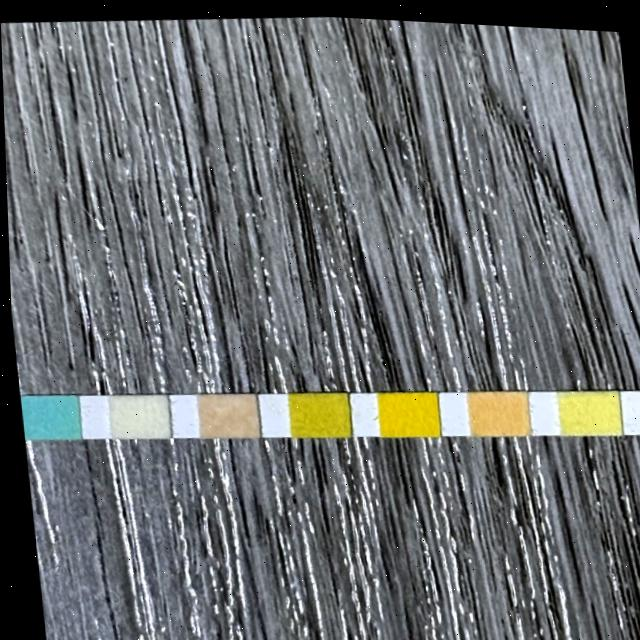Bilirubin: (105, 390, 165, 438)
Blood: (375, 384, 435, 434)
Glucose: (16, 390, 76, 441)
Ketone: (193, 387, 255, 437)
Protein: (554, 380, 618, 431)
SpGravity: (284, 386, 347, 435)
pH: (464, 382, 526, 432)
